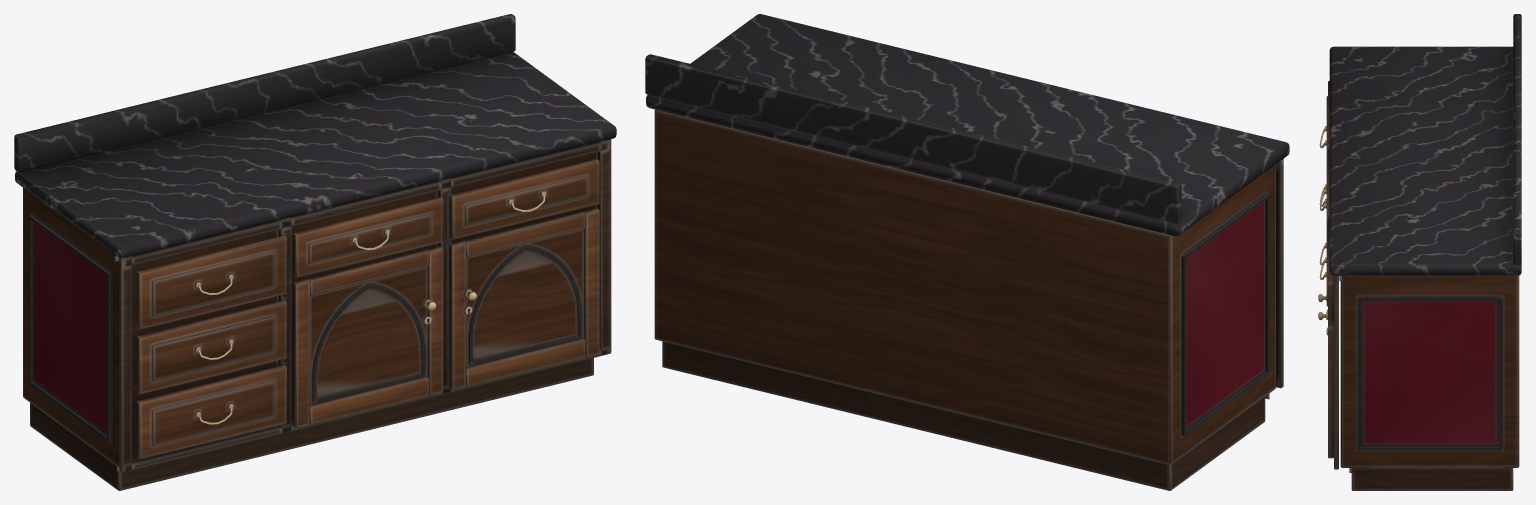
The model's file is KitchenetteCounter.fbx.
3 renders of one model, left to right at view 1: azimuth 30°, elevation 25°; view 2: azimuth 150°, elevation 25°; view 3: azimuth 270°, elevation 25°, orthographic. The views are drawn at different scales.
Visible parts, largest first — view 1: KitchenetteCounter; view 2: KitchenetteCounter; view 3: KitchenetteCounter.
Boxes of the visible parts, <box> form: KitchenetteCounter: <box>14,14,616,490</box>; KitchenetteCounter: <box>645,14,1289,490</box>; KitchenetteCounter: <box>1318,14,1521,490</box>.
Bounding box in the file's own units: 612 × 342 × 240.
